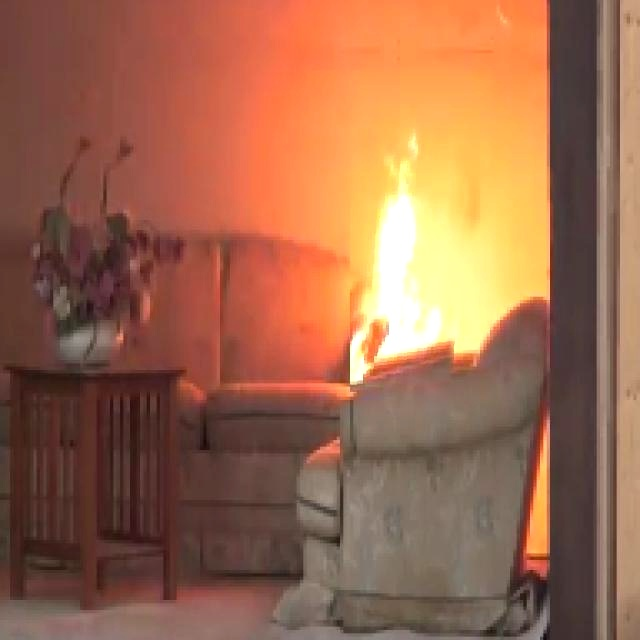fire: (353, 144, 468, 352)
